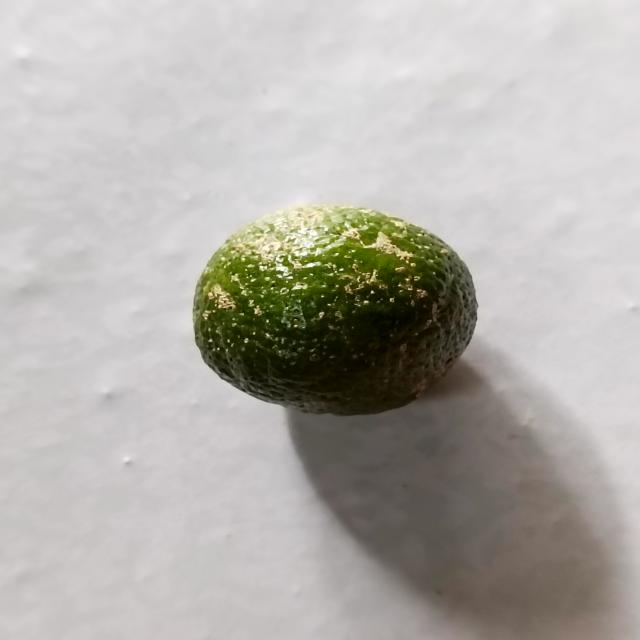scab: (196, 191, 490, 422)
